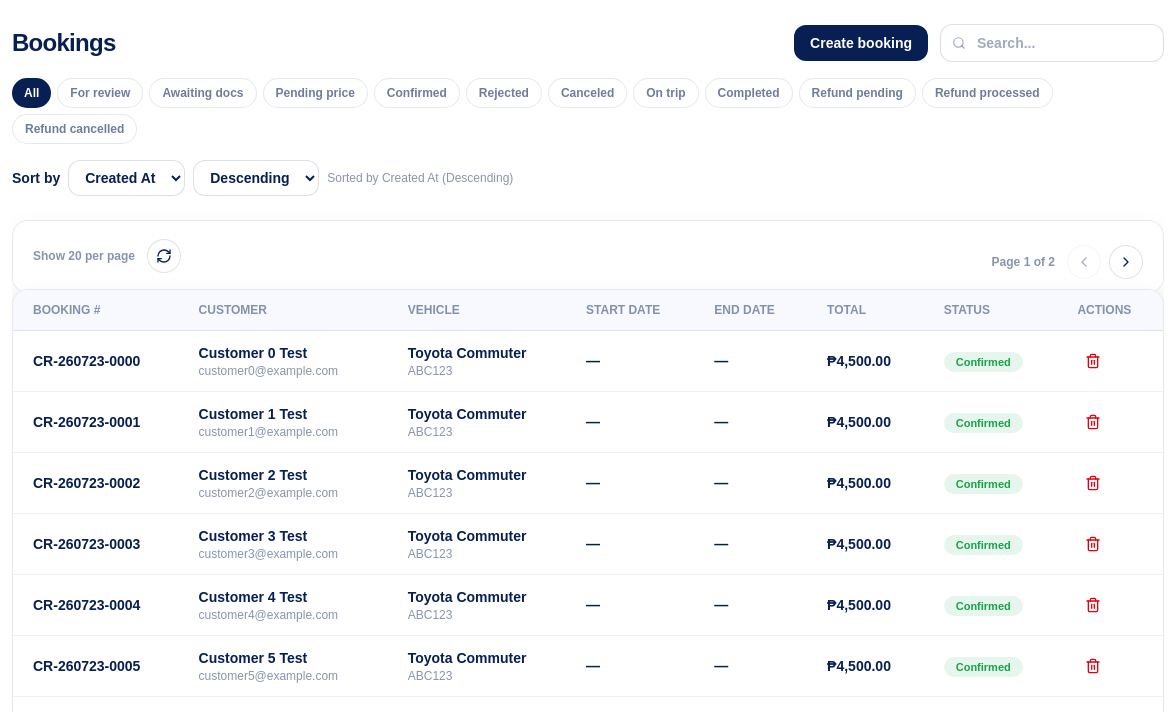
Test: AdminBookings › shows 20 bookings per page and navigates between pages
This screenshot has width=1176, height=712.
Expected: the text "Show 20 per page" is shown, 33,248 -> 135,264
Expected: the text "Page 1 of 2" is shown, 992,254 -> 1055,270
What coordinates should you click on to do the following:
click the button named "Next page"
I would click on:
 (1126, 262)
Its box is 1109,245 -> 1143,279.
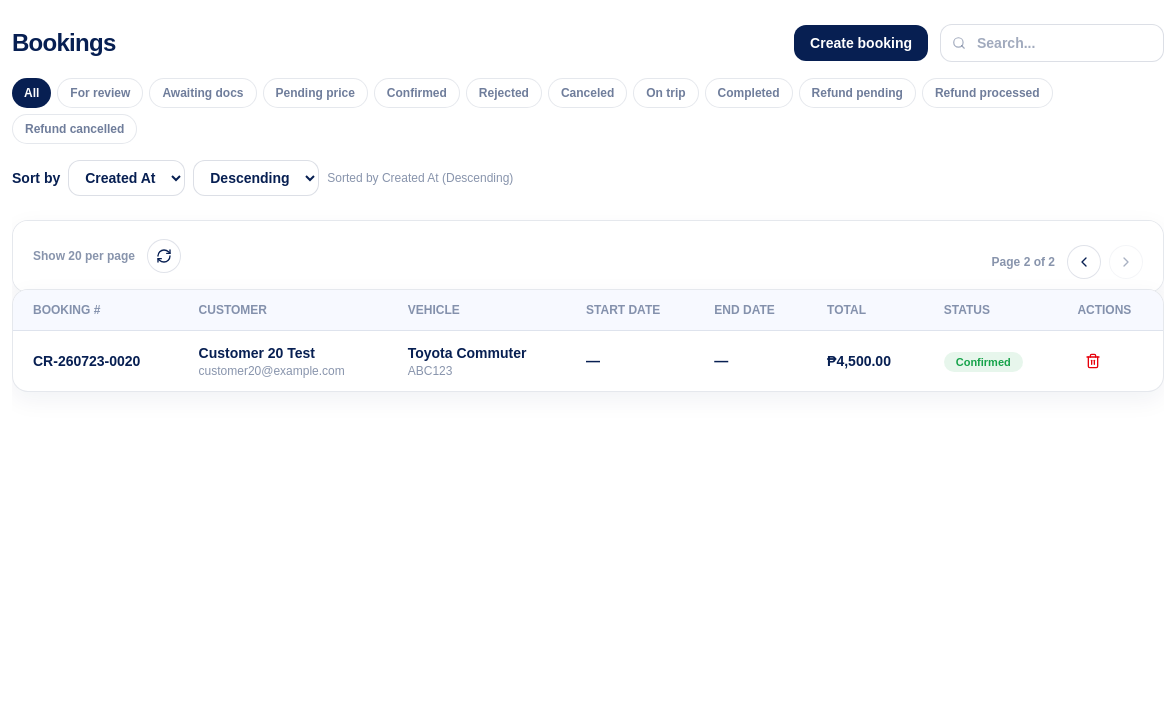
Expected: the number of links "CR-260723-0020" is 1, 33,351 -> 140,371
Expected: the text "Page 2 of 2" is shown, 992,254 -> 1055,270
